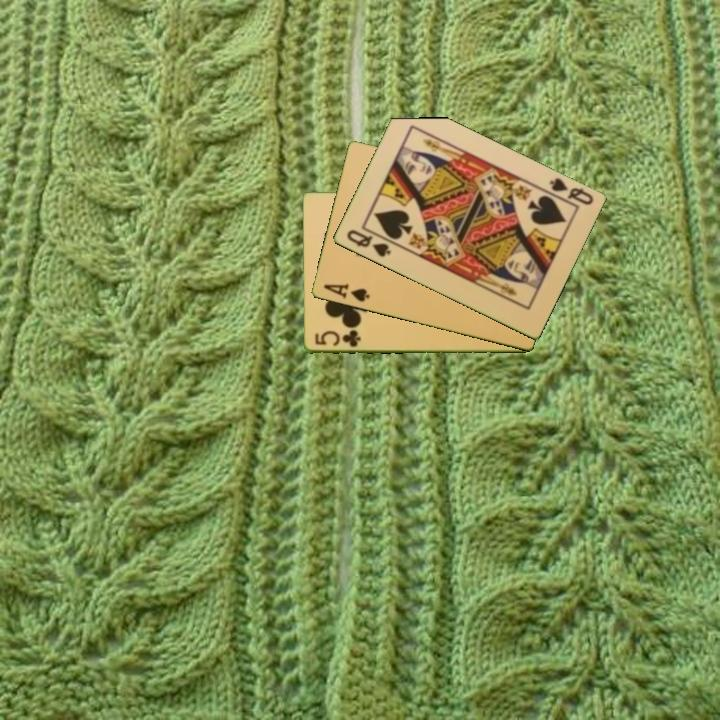5c: (312, 327, 363, 350)
As: (320, 281, 372, 305)
Qs: (343, 226, 393, 260), (546, 174, 596, 208)
